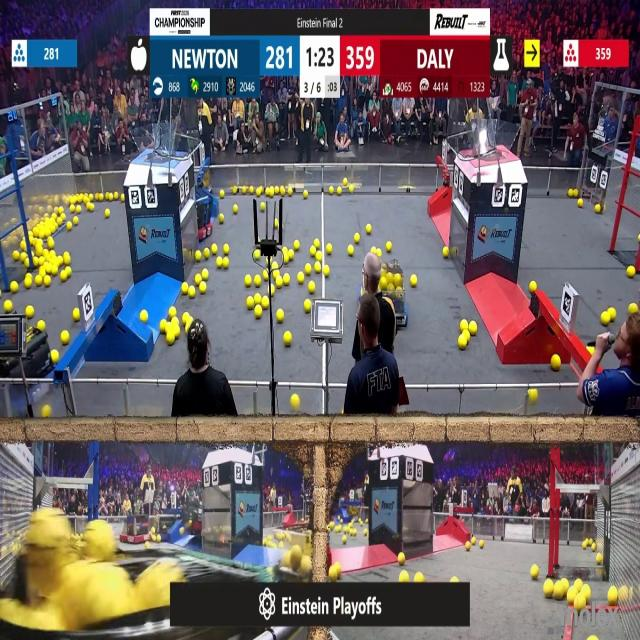ball_ground: (607, 589, 617, 607), (552, 354, 562, 370), (543, 582, 552, 599), (574, 593, 584, 608), (290, 394, 299, 410), (528, 388, 538, 402), (328, 566, 338, 580), (567, 588, 575, 604), (257, 566, 271, 575), (284, 333, 292, 348), (530, 565, 538, 579), (62, 332, 70, 346), (458, 337, 466, 351), (585, 586, 592, 602), (399, 570, 408, 582), (42, 407, 50, 420), (167, 333, 175, 346), (601, 313, 609, 326), (50, 351, 58, 364), (415, 572, 425, 582), (322, 266, 330, 278), (296, 273, 304, 285), (608, 309, 616, 321), (4, 302, 12, 314), (276, 276, 284, 288), (468, 322, 476, 334), (246, 296, 254, 308), (187, 286, 195, 298), (73, 309, 80, 322), (27, 306, 34, 319), (277, 310, 284, 323), (253, 276, 261, 287), (263, 296, 271, 307), (169, 308, 177, 319), (10, 282, 17, 294), (26, 277, 33, 289), (628, 267, 635, 279), (397, 554, 404, 566), (254, 307, 261, 319), (141, 311, 148, 323), (630, 304, 638, 314), (306, 301, 312, 314), (43, 276, 50, 287), (182, 313, 189, 324), (37, 320, 44, 331), (36, 276, 43, 287), (449, 247, 456, 258), (412, 275, 418, 287), (64, 252, 70, 264), (216, 256, 222, 268), (243, 276, 249, 288), (205, 248, 211, 260), (162, 320, 168, 332), (310, 282, 316, 294), (181, 282, 187, 294), (315, 264, 322, 274), (306, 266, 313, 276), (253, 250, 260, 260), (61, 272, 68, 282), (460, 320, 467, 330), (596, 555, 603, 565), (50, 266, 57, 276), (444, 247, 450, 258), (530, 281, 536, 292), (283, 275, 289, 286), (201, 283, 207, 294), (194, 250, 200, 261), (222, 257, 228, 268), (326, 244, 332, 255), (174, 327, 180, 338), (46, 250, 54, 258), (253, 294, 260, 303), (270, 286, 277, 295), (572, 188, 579, 197), (267, 187, 274, 196), (348, 245, 354, 255), (386, 242, 392, 252), (222, 245, 228, 255), (354, 234, 360, 244), (203, 271, 209, 281), (293, 241, 299, 251), (212, 244, 218, 254), (194, 274, 200, 284), (365, 223, 371, 233), (264, 272, 270, 282), (47, 239, 53, 249), (316, 250, 322, 260), (272, 272, 279, 280), (172, 317, 179, 325), (596, 205, 602, 214), (259, 203, 265, 212), (314, 240, 320, 249), (67, 221, 73, 230), (75, 205, 81, 214), (310, 247, 316, 256), (89, 203, 95, 212), (25, 258, 31, 267), (13, 251, 19, 260), (284, 253, 289, 263), (288, 250, 293, 260), (275, 218, 280, 228), (39, 266, 44, 276), (153, 535, 160, 542), (588, 347, 594, 355), (452, 575, 458, 583), (99, 192, 105, 200), (107, 192, 113, 200), (38, 257, 44, 265), (242, 186, 248, 194), (105, 209, 110, 218), (234, 205, 239, 214), (343, 538, 348, 547), (59, 216, 64, 225), (280, 186, 285, 195), (370, 247, 376, 254), (348, 185, 354, 192), (273, 264, 279, 271), (465, 541, 470, 549), (577, 200, 582, 208), (219, 214, 224, 222), (304, 190, 309, 198), (568, 188, 573, 196), (338, 187, 343, 195), (328, 186, 333, 194), (145, 540, 150, 548), (90, 192, 95, 200), (73, 217, 78, 224), (363, 529, 368, 536), (255, 188, 260, 195), (287, 188, 292, 195), (249, 186, 254, 193), (378, 248, 382, 256), (481, 539, 485, 547), (471, 536, 475, 544), (114, 191, 118, 199), (234, 186, 238, 194), (344, 178, 348, 186), (220, 190, 224, 197), (120, 193, 124, 200), (592, 543, 596, 550), (591, 636, 597, 640)
goal: (465, 122, 522, 159), (131, 129, 187, 160)
robot_blue: (10, 322, 53, 407), (339, 486, 368, 523)
robot_red: (122, 506, 152, 544)
